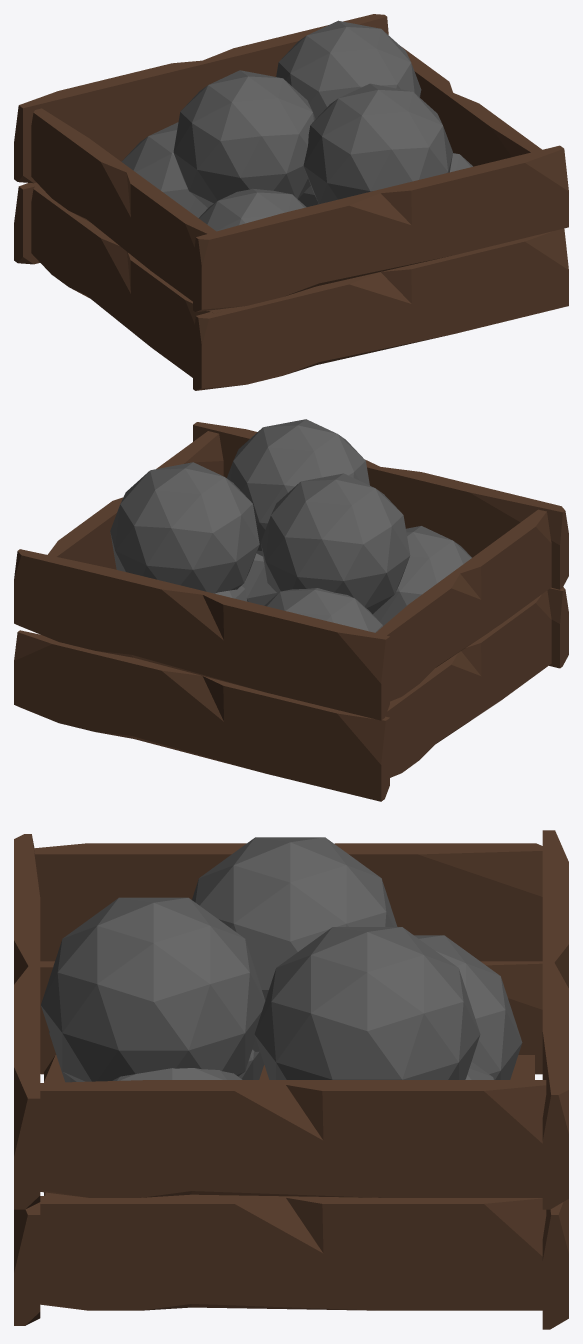
Rendered from MediumBulletBox.fbx.
3 views of the same model, one above another, from view 1: azimuth 30°, elevation 25°; view 2: azimuth 150°, elevation 25°; view 3: azimuth 270°, elevation 25° (orthographic). The views are drawn at different scales.
Parts seen in each view (by area): view 1: WoodenBox, Bullet; view 2: WoodenBox, Bullet; view 3: WoodenBox, Bullet.
Boxes of the visible parts, <box> form: WoodenBox: <box>14,14,568,390</box>; Bullet: <box>121,20,472,231</box>; WoodenBox: <box>14,422,568,801</box>; Bullet: <box>110,419,471,632</box>; WoodenBox: <box>14,830,568,1329</box>; Bullet: <box>41,837,522,1082</box>.
Bounding box in the file's own units: 144 × 82.31 × 128.
